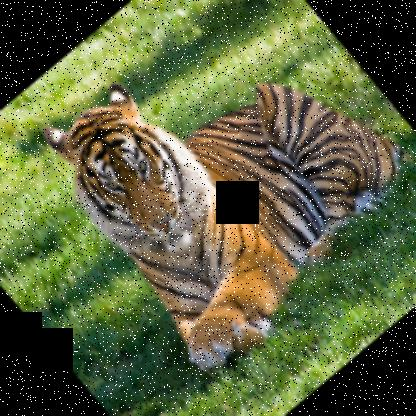Panthera tigris: (14, 0, 415, 390)
